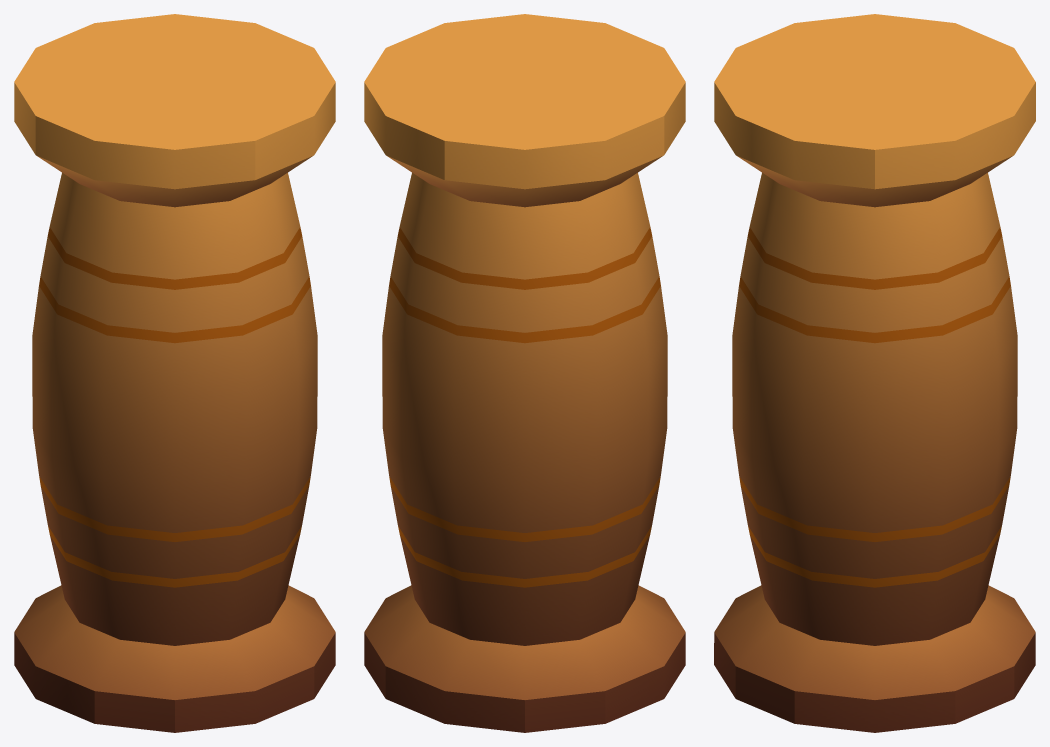
The model's file is Enviroment__Pillar_001.fbx.
3 renders of one model, left to right at view 1: azimuth 30°, elevation 25°; view 2: azimuth 150°, elevation 25°; view 3: azimuth 270°, elevation 25°, orthographic.
Visible parts, largest first — view 1: Cylinder; view 2: Cylinder; view 3: Cylinder.
Boxes of the visible parts, box(x1,y1,x2,y2) form: Cylinder: box(14, 14, 335, 732); Cylinder: box(364, 14, 685, 732); Cylinder: box(714, 14, 1035, 732).
Bounding box in the file's own units: 20 × 40 × 20.
